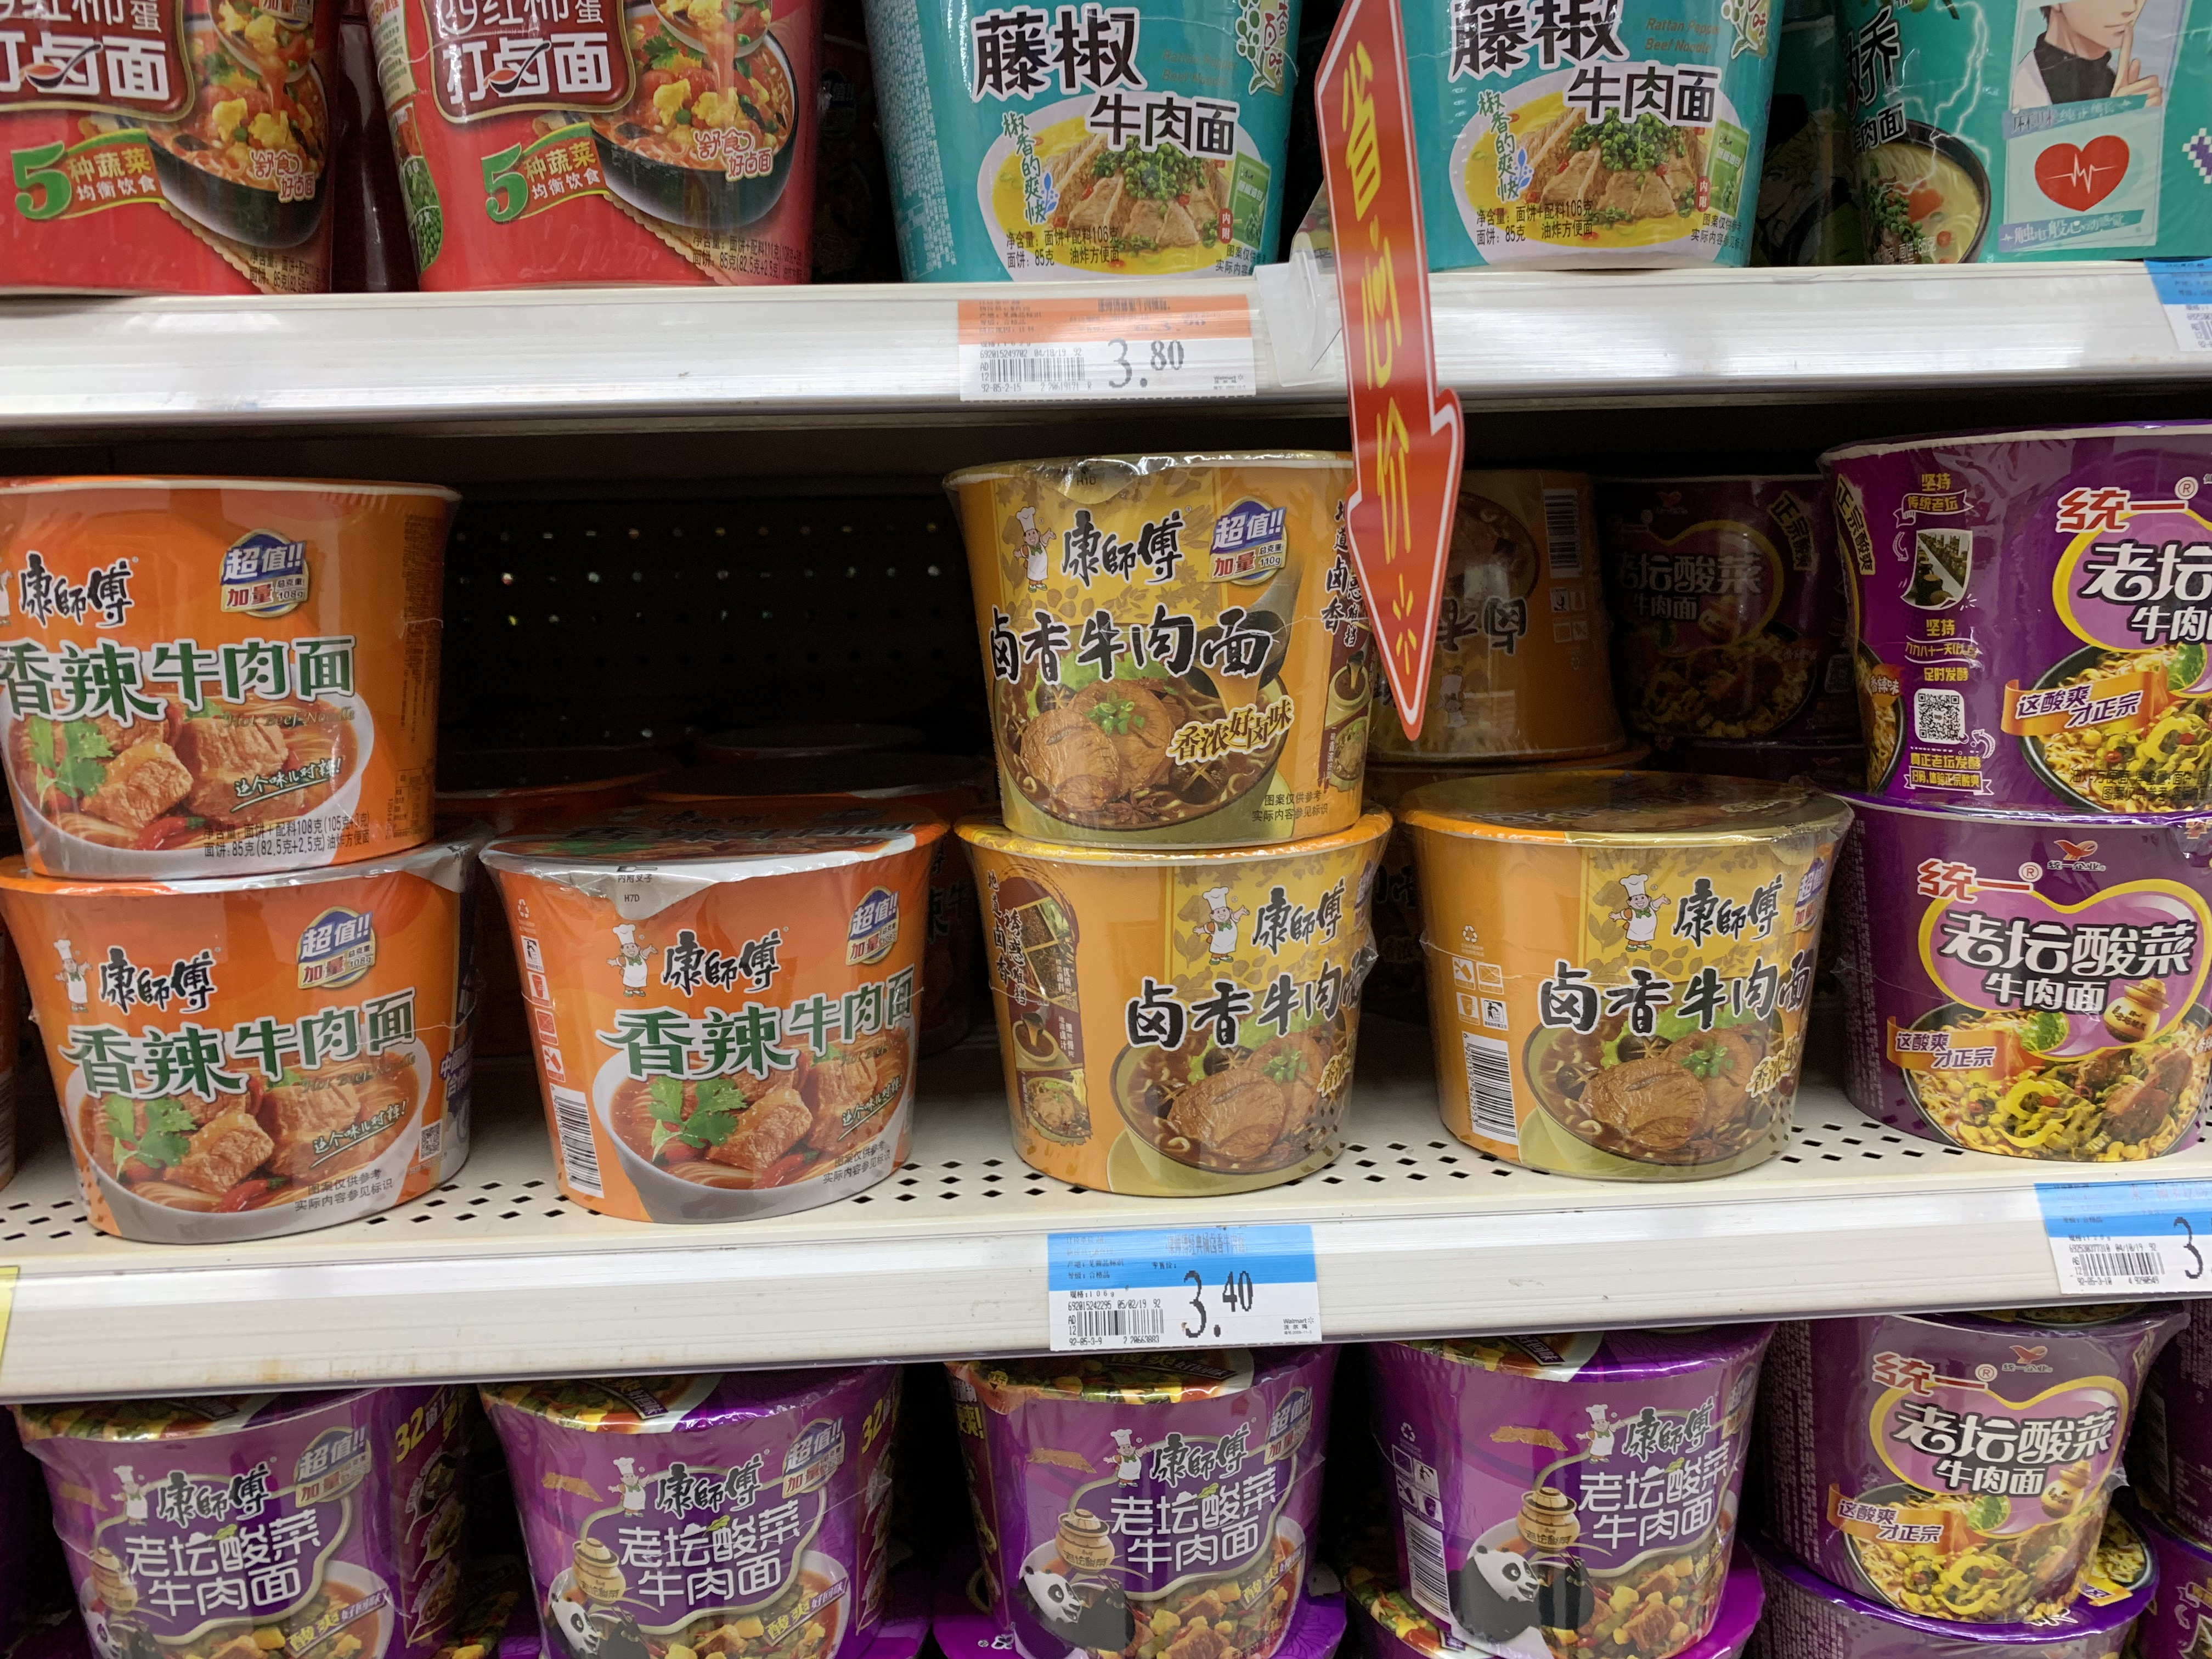luxiang: (1390, 756, 1853, 1185), (941, 450, 1379, 856), (968, 852, 1392, 1202)
xiangla: (474, 800, 953, 1225), (0, 472, 463, 887), (0, 885, 474, 1248)
